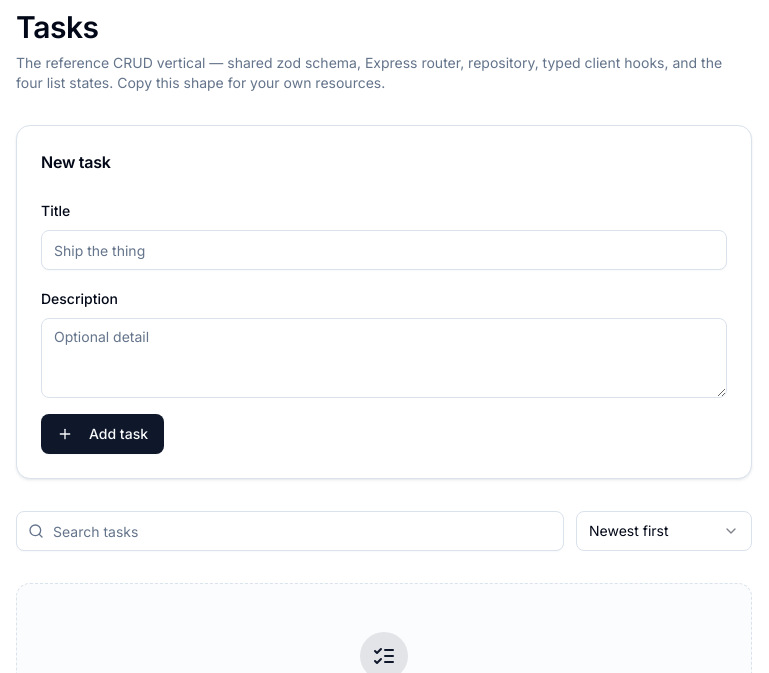
Test: TasksPage — create › blocks submit and shows the zod message when the title is empty
Click the button "Add task" at x=102, y=434, box [41,414,164,454]
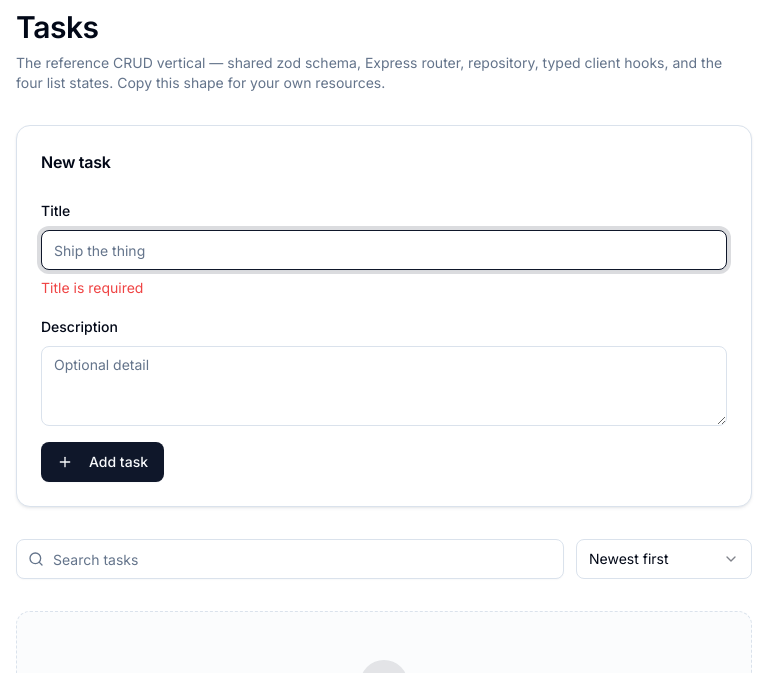
Now the text "Title is required" is shown, box [41,279,143,296]
